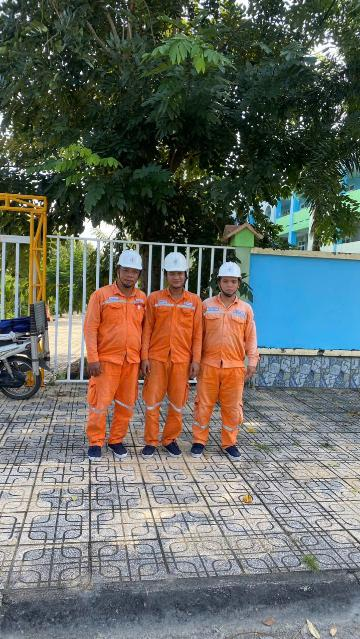helmet: (115, 244, 145, 277), (156, 250, 194, 276), (216, 262, 247, 281)
shoes: (106, 435, 131, 459), (83, 441, 106, 464), (224, 443, 245, 463), (159, 437, 182, 455), (138, 437, 156, 459), (182, 436, 202, 455)
